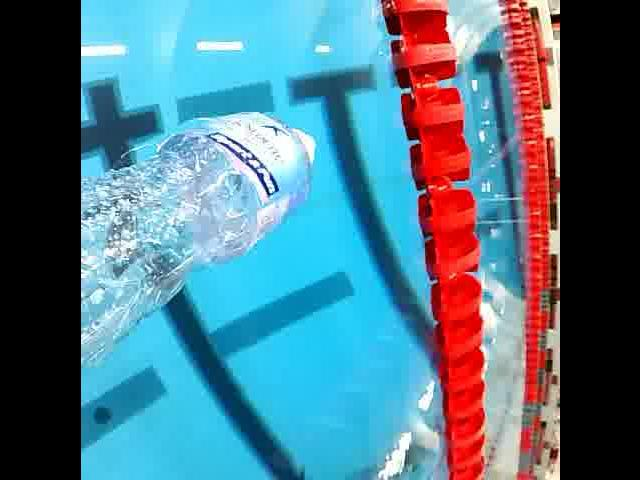Bottle: (80, 104, 325, 377)
